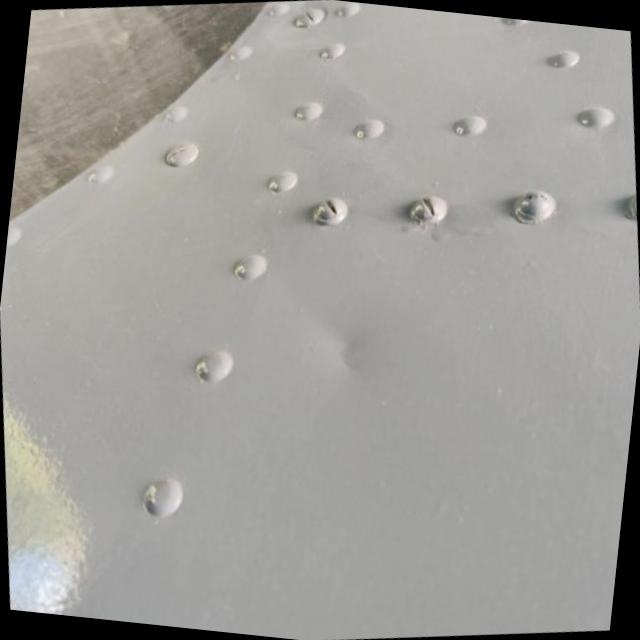dent: (302, 312, 383, 384)
